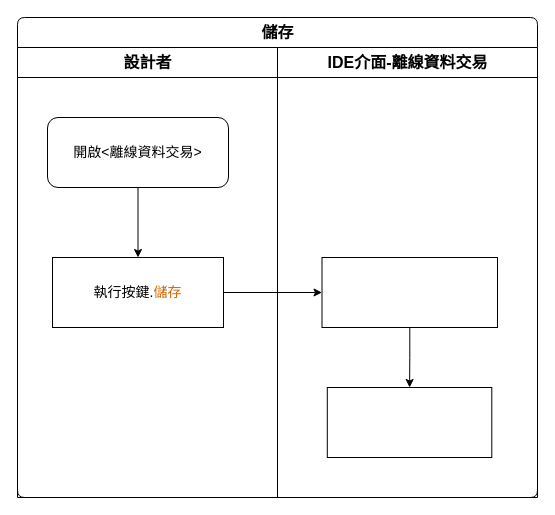
Some shapes in this 555 by 515 pixel diagram are drawn without their labels. The centre of each missing label's shape, as x and y in pixels:
"儲存完成 畫面回到瀏覽狀態" belongs at (x=409, y=422).
"儲存本次異動內容" belongs at (x=409, y=292).
